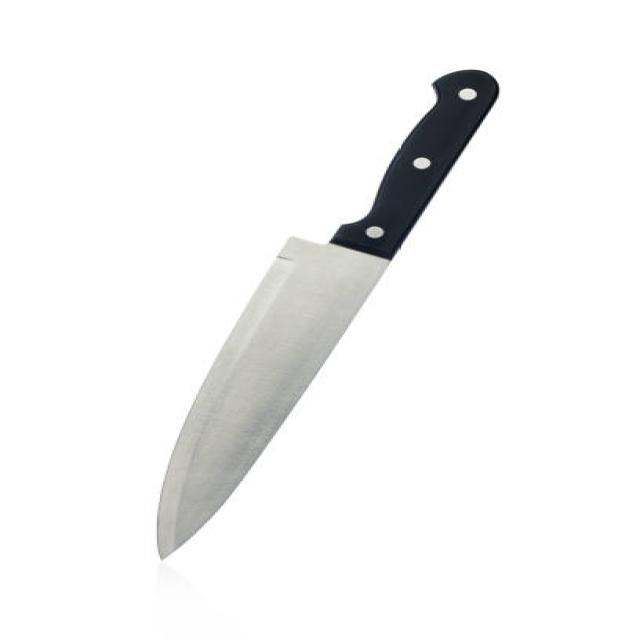knife: (152, 64, 510, 573)
